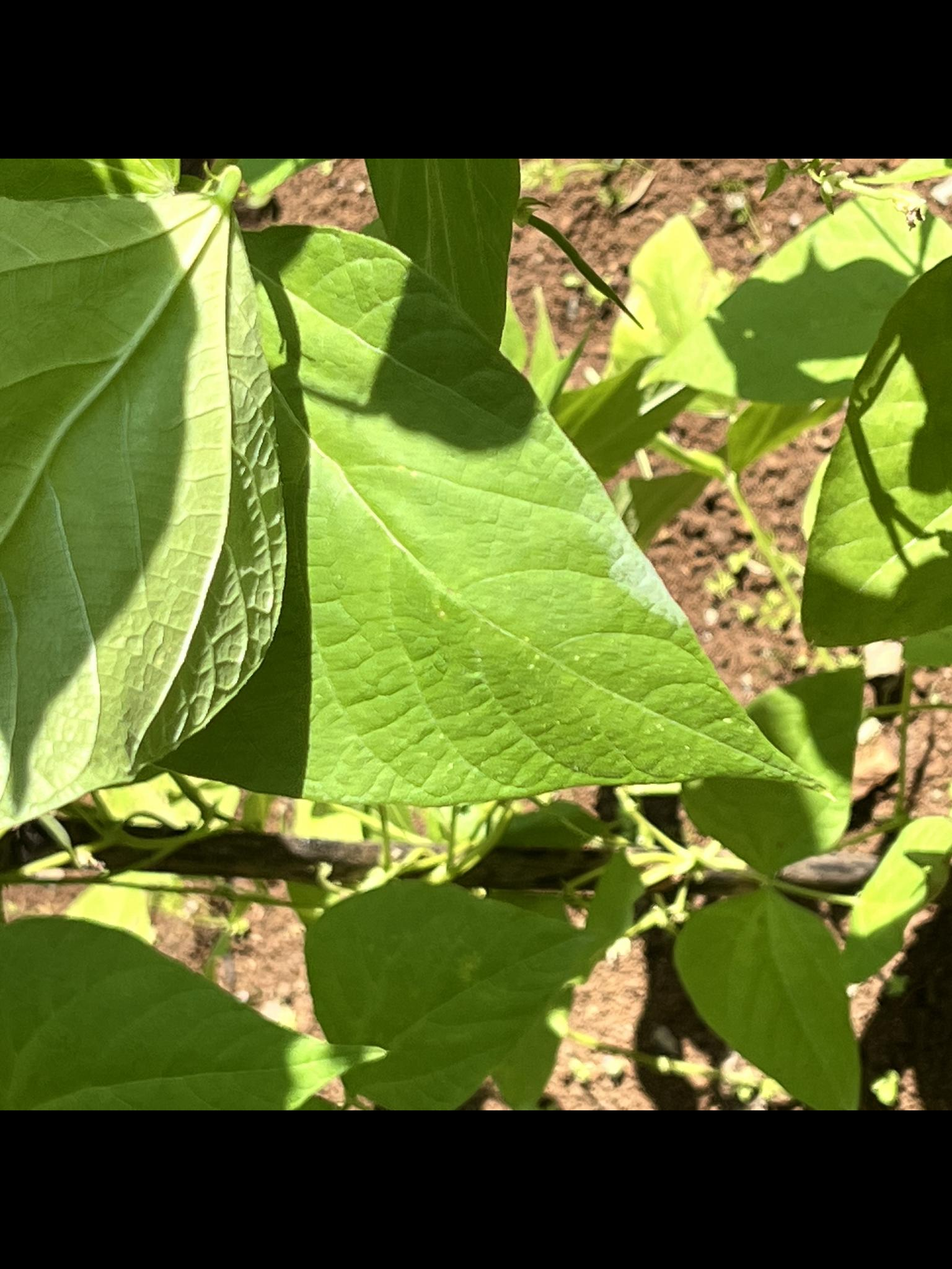embun tepung: (588, 483, 683, 632)
